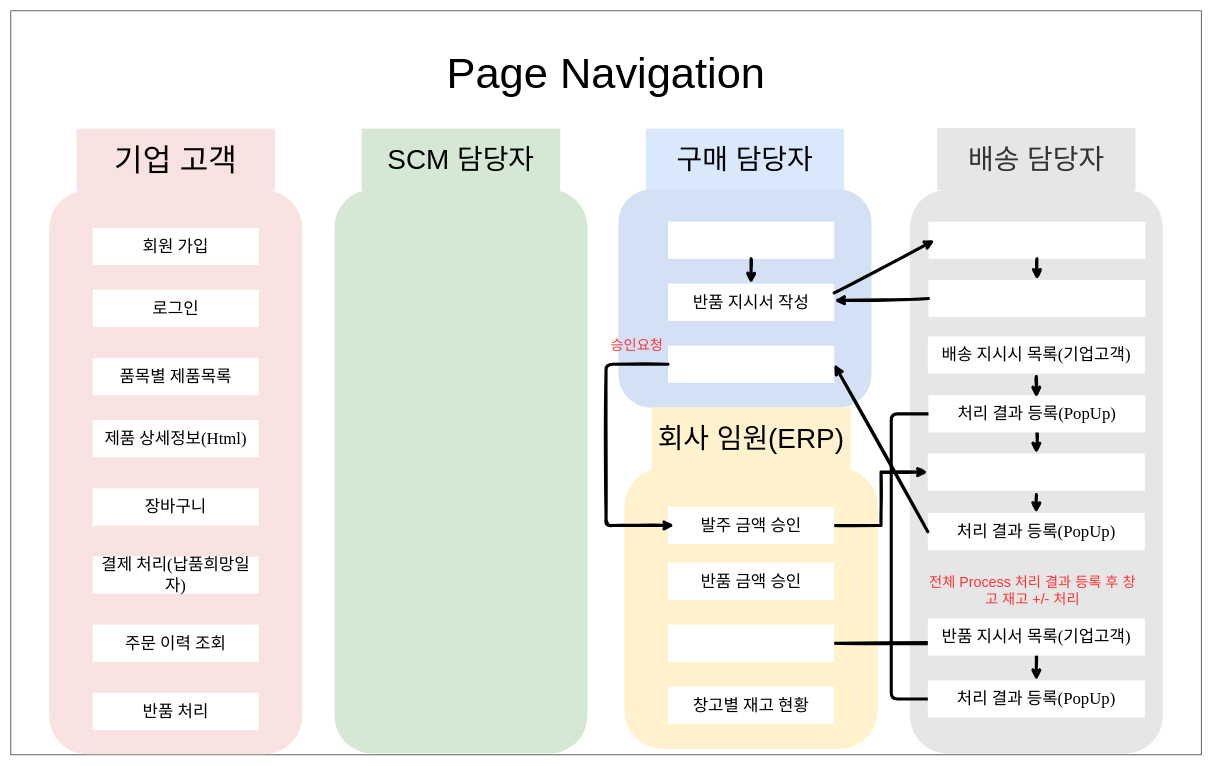
This 1212x766 diagram has some shape labels left out. The shapes that lost their labels are listed below. From the top down, each one's box as (x1, y1, x2, y2) in pixels, then its label:
(668, 221, 834, 259): 반품 지시서 목록
(928, 221, 1145, 259): 반품 지시서 목록(거래처)
(928, 280, 1145, 317): 처리결과 등록( PopUp )
(668, 345, 834, 383): 발주 지시서 조회
(928, 453, 1145, 490): 발주 지시서 목록(거래처)
(668, 624, 834, 662): 매출 현황
